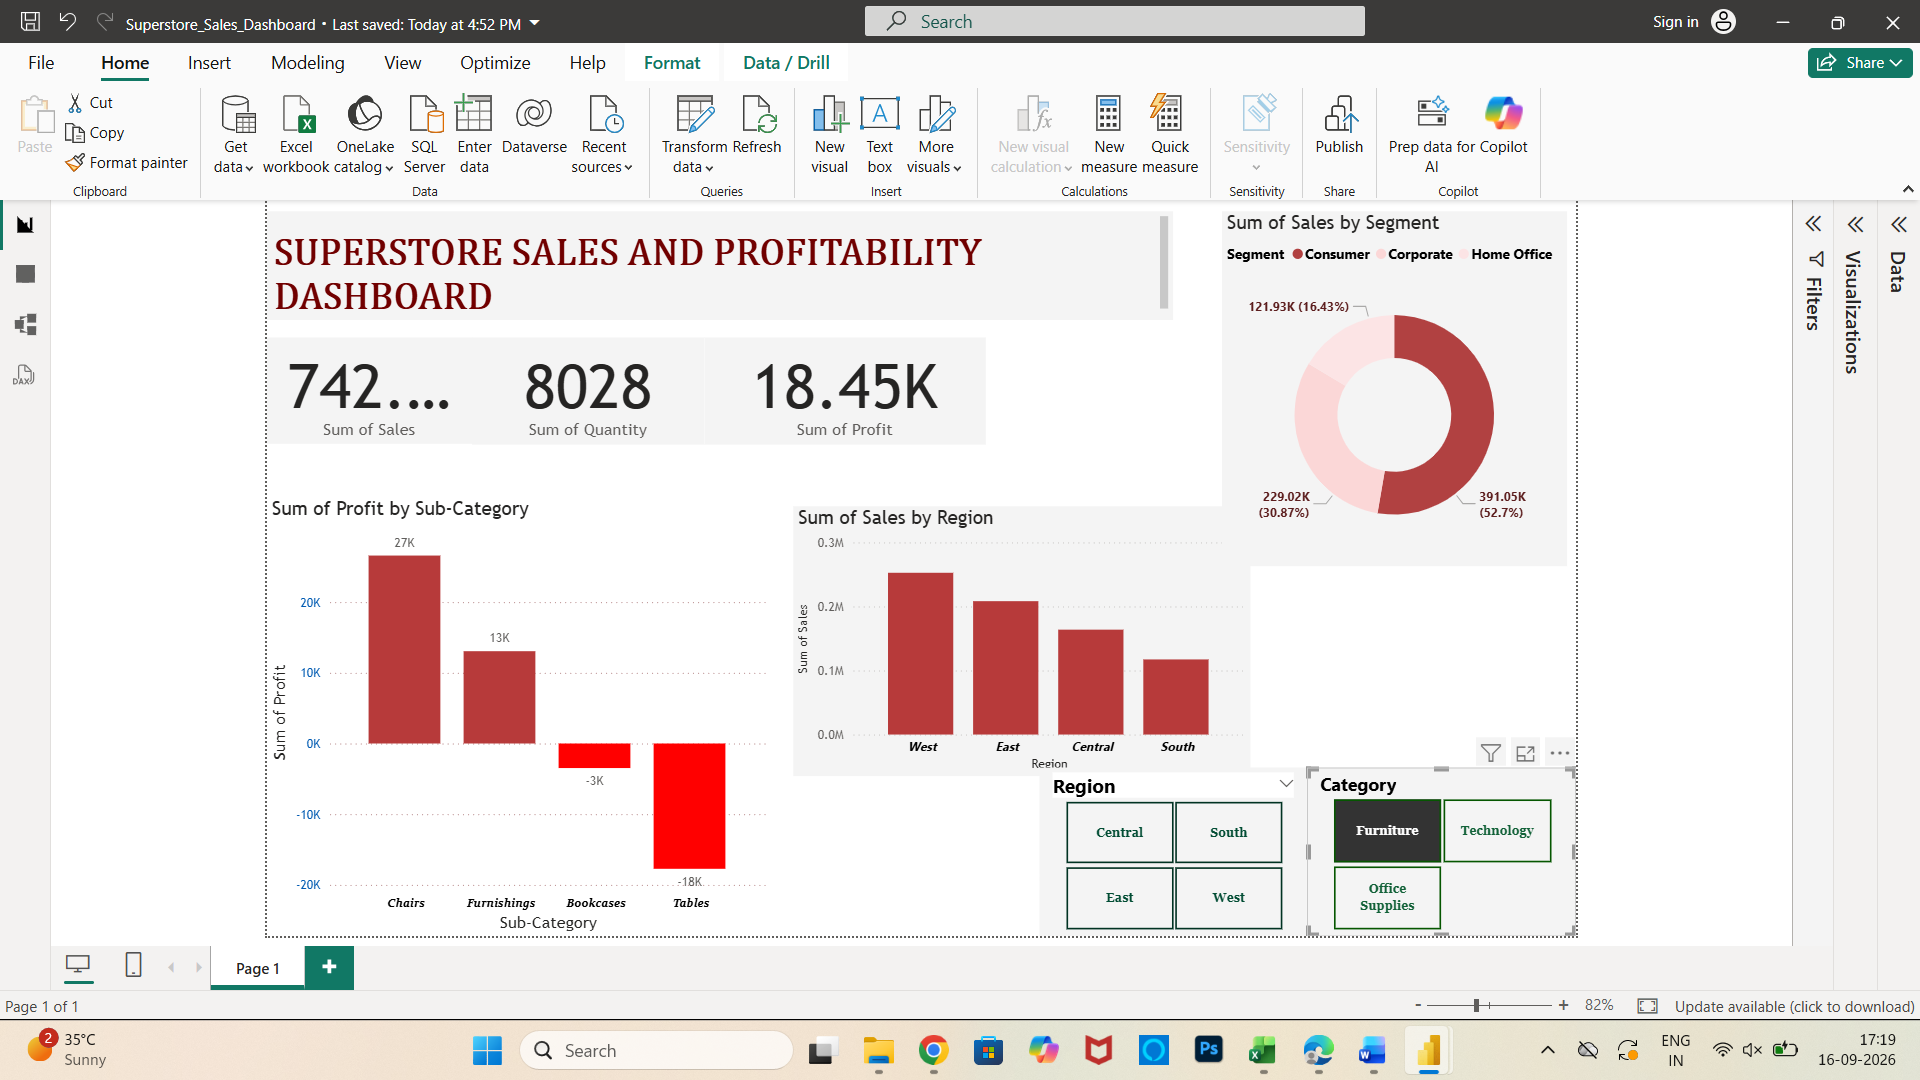

This screenshot's page, from the dashboard's own definition file:
{"tool":"powerbi","page":{"name":"Page 1","canvas":[1280,720],"ordinal":0},"visuals":[{"type":"card","fields":{"Values":["Sum(SampleSuperstore.Sales)"]},"box":[0,134.5,200.5,103.9],"z":0},{"type":"card","fields":{"Values":["Sum(SampleSuperstore.Quantity)"]},"box":[200.5,134.5,227.4,105.2],"z":1000},{"type":"card","fields":{"Values":["Sum(SampleSuperstore.Profit)"]},"box":[428,134.5,275.1,105.2],"z":2000},{"type":"clusteredColumnChart","fields":{"Category":["SampleSuperstore.Sub-Category"],"Y":["Sum(SampleSuperstore.Profit)"]},"box":[0,291,494,429.2],"z":3000},{"type":"clusteredColumnChart","fields":{"Category":["SampleSuperstore.Region"],"Y":["Sum(SampleSuperstore.Sales)"]},"box":[514.8,299.6,447.6,264.1],"z":4000},{"type":"donutChart","fields":{"Category":["SampleSuperstore.Segment"],"Y":["Sum(SampleSuperstore.Sales)"]},"box":[934.2,11,337.5,347.3],"z":5000},{"type":"slicer","fields":{"Values":["SampleSuperstore.Region"]},"box":[755.7,555.2,261.7,165.1],"z":5001},{"type":"slicer","fields":{"Values":["SampleSuperstore.Category"]},"box":[1017.4,555.2,262.9,165.1],"z":5002},{"type":"textbox","box":[0,11,886.6,106.4],"z":5003}]}

Visuals, with their boxes on the page's 1280x720 design canvas (x1, y1, x2, y2). These are canvas units, not pixel positions in the 1920x1080 screenshot, which may show the page scaled, cropped or inside an application window:
card - Sum(SampleSuperstore.Sales): BBox(0, 134, 200, 238)
card - Sum(SampleSuperstore.Quantity): BBox(200, 134, 428, 240)
card - Sum(SampleSuperstore.Profit): BBox(428, 134, 703, 240)
clusteredColumnChart - SampleSuperstore.Sub-Category x Sum(SampleSuperstore.Profit): BBox(0, 291, 494, 720)
clusteredColumnChart - SampleSuperstore.Region x Sum(SampleSuperstore.Sales): BBox(515, 300, 962, 564)
donutChart - SampleSuperstore.Segment x Sum(SampleSuperstore.Sales): BBox(934, 11, 1272, 358)
slicer - SampleSuperstore.Region: BBox(756, 555, 1017, 720)
slicer - SampleSuperstore.Category: BBox(1017, 555, 1280, 720)
textbox: BBox(0, 11, 887, 117)
